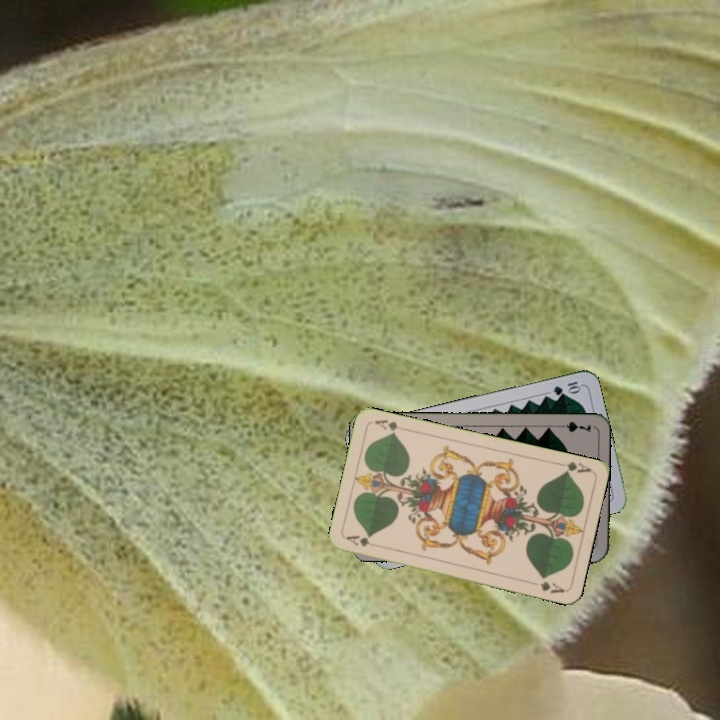G10: (549, 377, 584, 398)
G7: (553, 418, 594, 435)
GA: (553, 457, 594, 476), (343, 531, 383, 550)
